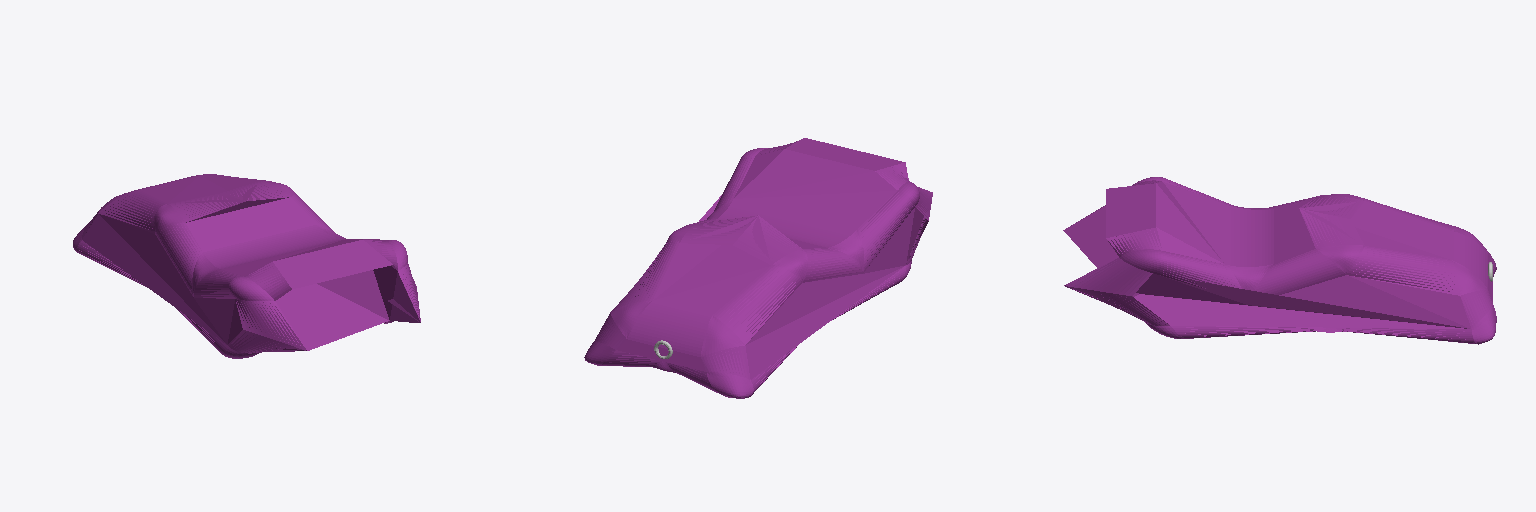
3 views of the same model, side by side, from view 1: azimuth 30°, elevation 25°; view 2: azimuth 150°, elevation 25°; view 3: azimuth 270°, elevation 25° (orthographic).
Visible parts, largest first — view 1: Cube.001; view 2: Cube.001; view 3: Cube.001.
Part boxes in pixels (left/top/right/bottom): Cube.001: left=73, top=174, right=420, bottom=358; Cube.001: left=584, top=138, right=932, bottom=398; Cube.001: left=1063, top=177, right=1496, bottom=344.
Bounding box in the file's own units: 3.63 × 2.02 × 7.84.
Materials: 2 (1 with a texture image).